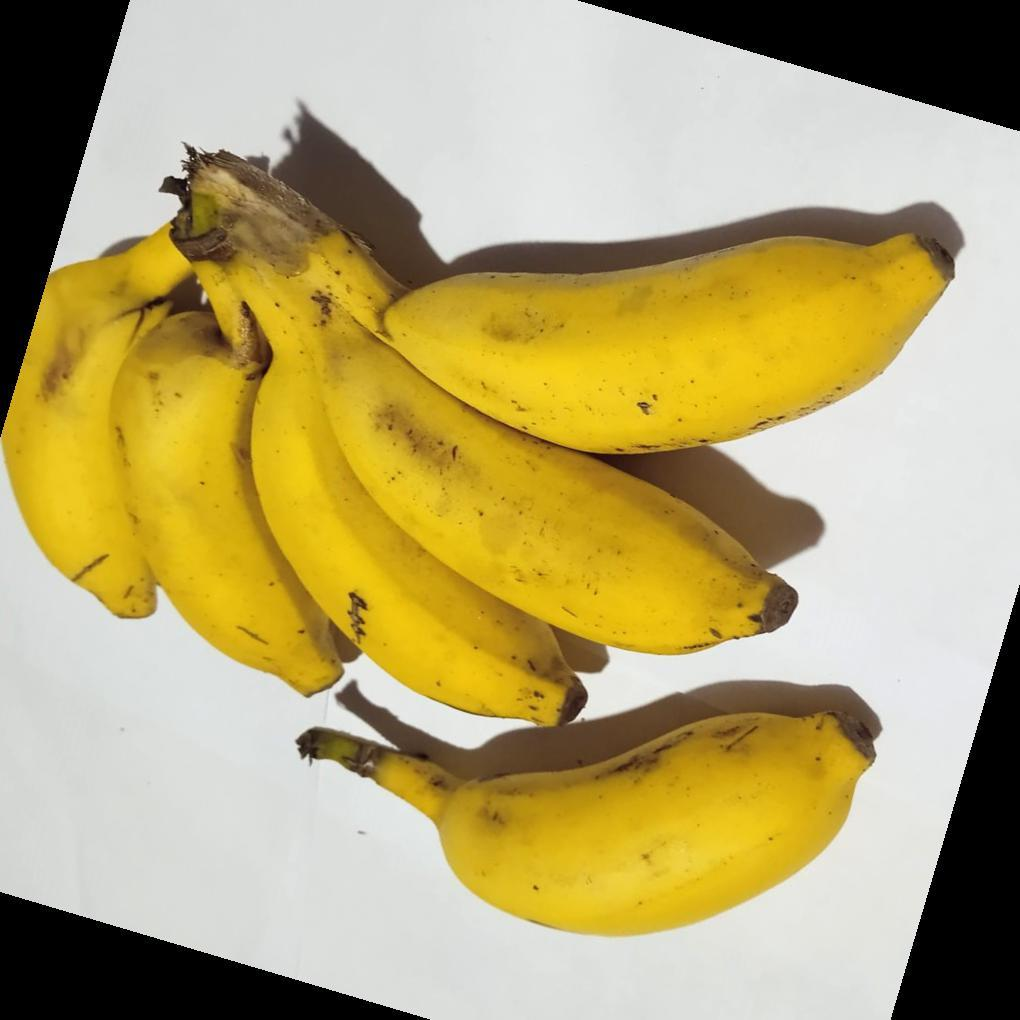Banana Ripe: (248, 174, 844, 714), (295, 156, 956, 487), (12, 176, 332, 759), (292, 703, 927, 914)
